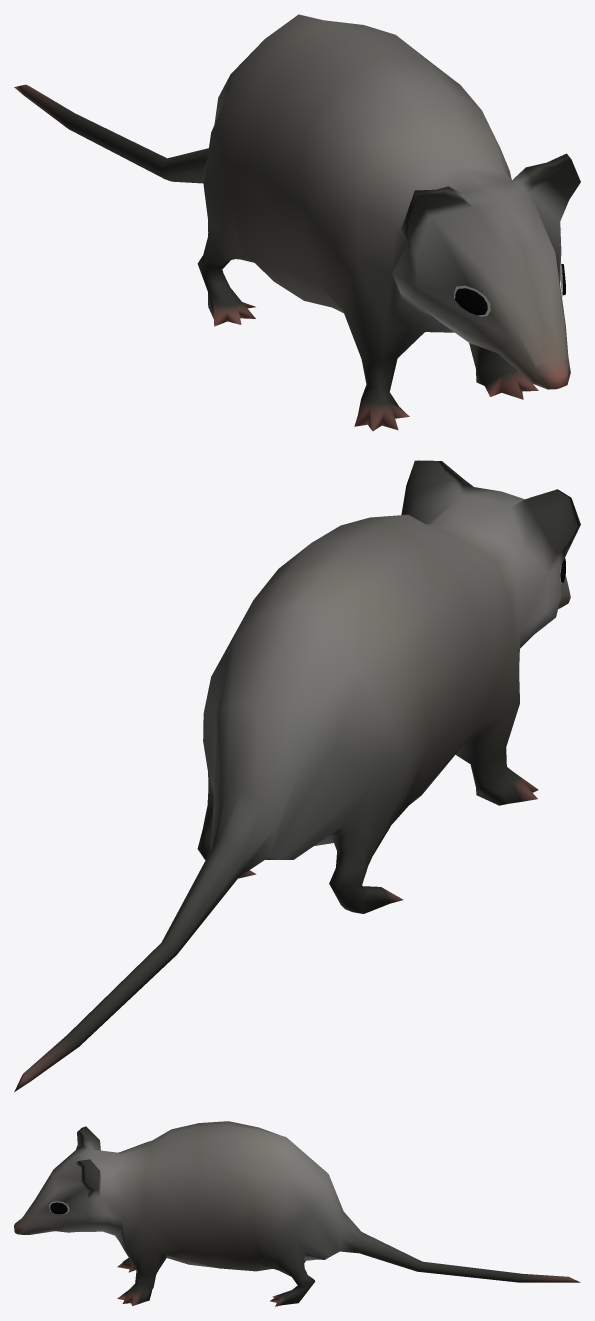
3 views of the same model, one above another, from view 1: azimuth 30°, elevation 25°; view 2: azimuth 150°, elevation 25°; view 3: azimuth 270°, elevation 25° (orthographic). The views are drawn at different scales.
Visible parts, largest first — view 1: base.044; view 2: base.044; view 3: base.044.
Boxes of the visible parts, x1=… form: base.044: x1=14, y1=14, x2=580, y2=431; base.044: x1=14, y1=460, x2=580, y2=1092; base.044: x1=14, y1=1121, x2=580, y2=1306.
Size of the model in its own units: 0.108 by 0.1535 by 0.5.
